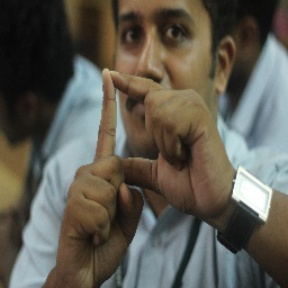D: (79, 62, 192, 192)
